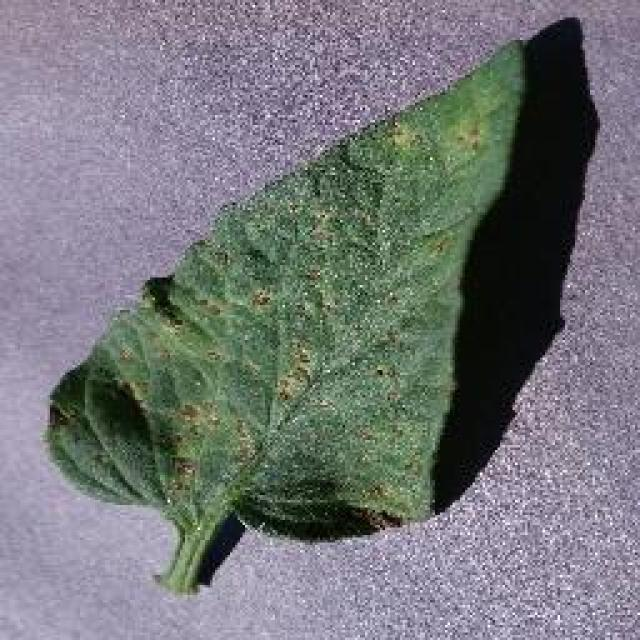Tomato Septoria spot leaf: (42, 34, 524, 544)
